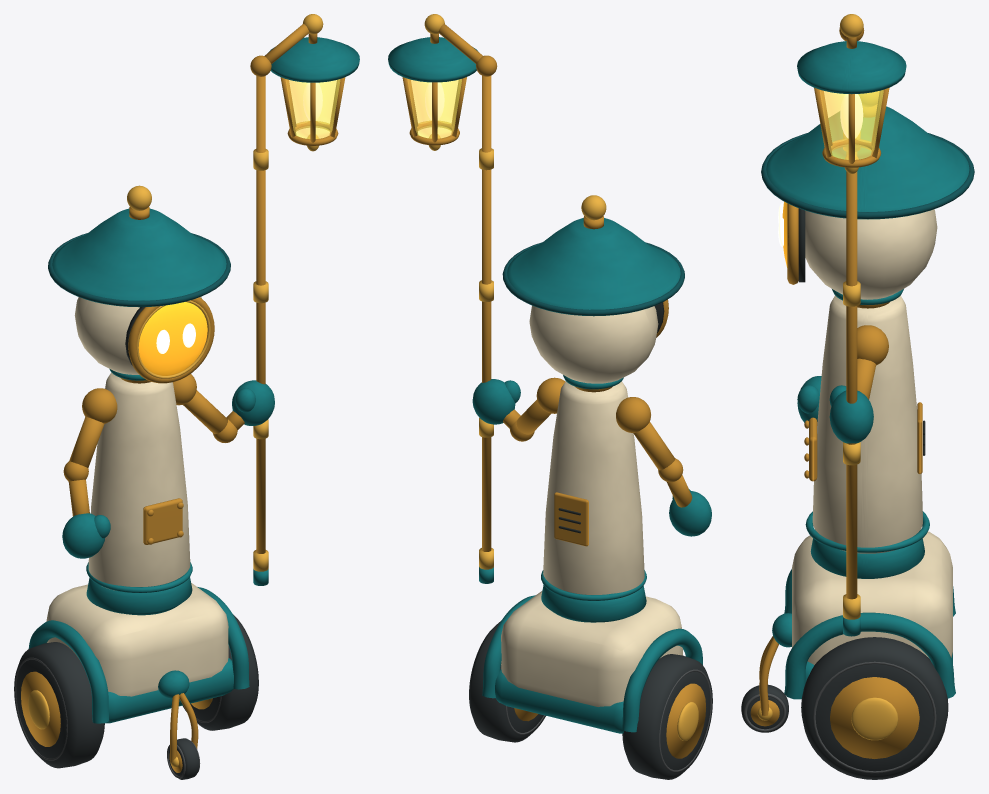
3 views of the same model, side by side, from view 1: azimuth 30°, elevation 25°; view 2: azimuth 150°, elevation 25°; view 3: azimuth 270°, elevation 25° (orthographic). The views are drawn at different scales.
Parts seen in each view (by area): view 1: body__robot_cream, head__robot_teal, body__robot_teal, wheel_l, pole__robot_brass, head__robot_amber, head__robot_cream, lantern__robot_teal, right_arm__robot_brass, body__robot_brass, wheel_r, lantern__robot_glass (+10 smaller); view 2: body__robot_cream, head__robot_teal, body__robot_teal, head__robot_cream, wheel_l, pole__robot_brass, lantern__robot_teal, wheel_r, right_arm__robot_brass, lantern__robot_glass, lantern__robot_brass, left_arm__robot_brass (+6 smaller); view 3: body__robot_cream, head__robot_teal, wheel_r, body__robot_teal, head__robot_cream, lantern__robot_teal, pole__robot_brass, wheel_r_hub, lantern__robot_glass, lantern__robot_brass, head__robot_teal_dark, left_arm__robot_teal (+9 smaller).
Boxes of the visible parts, x1,y1,x2,y2 form: body__robot_cream: (46,372,228,696); head__robot_teal: (52,208,226,380); body__robot_teal: (28,562,249,723); wheel_l: (14,642,104,768); pole__robot_brass: (250,24,317,553); head__robot_amber: (138,302,207,375); head__robot_cream: (74,296,201,374); lantern__robot_teal: (268,37,359,82); right_arm__robot_brass: (63,388,117,516); body__robot_brass: (143,498,198,762); wheel_r: (182,614,258,730); lantern__robot_glass: (285,79,340,139); body__robot_cream: (501,381,682,706); head__robot_teal: (507,218,680,389); body__robot_teal: (482,570,702,733); head__robot_cream: (529,305,658,383); wheel_l: (622,654,712,779); pole__robot_brass: (430,23,497,551); lantern__robot_teal: (388,37,478,82); wheel_r: (469,620,545,742); right_arm__robot_brass: (616,397,692,507); lantern__robot_glass: (407,79,461,138); lantern__robot_brass: (402,77,466,145); left_arm__robot_brass: (503,377,565,441); body__robot_cream: (792,295,952,664); head__robot_teal: (766,106,969,304); wheel_r: (801,637,948,779); body__robot_teal: (772,511,955,699); head__robot_cream: (805,209,937,299); lantern__robot_teal: (797,41,906,94); pole__robot_brass: (839,27,864,599); wheel_r_hub: (830,677,919,758); lantern__robot_glass: (819,90,883,159); lantern__robot_brass: (814,87,889,167); head__robot_teal_dark: (761,133,974,218); left_arm__robot_teal: (829,385,873,443).
Size of the model in its own units: 0.9029 by 1.94 by 0.507.
12 materials, 2 textured.
